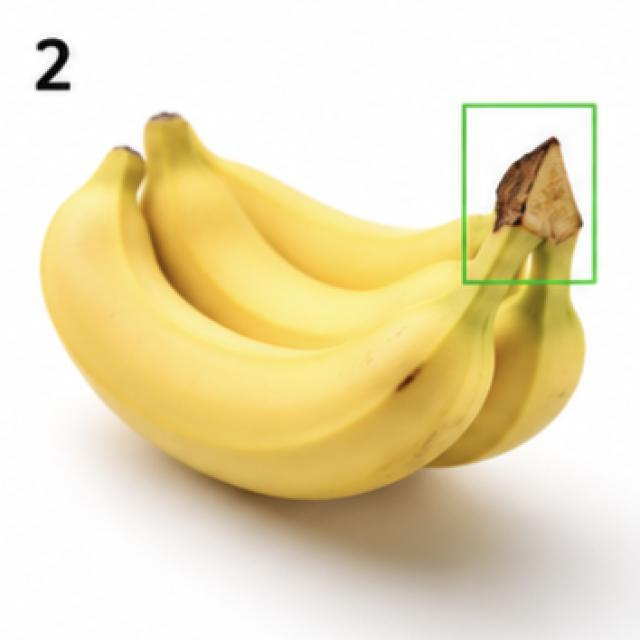Fruit-Stem-Detection: (466, 108, 596, 280), (484, 137, 584, 307)
